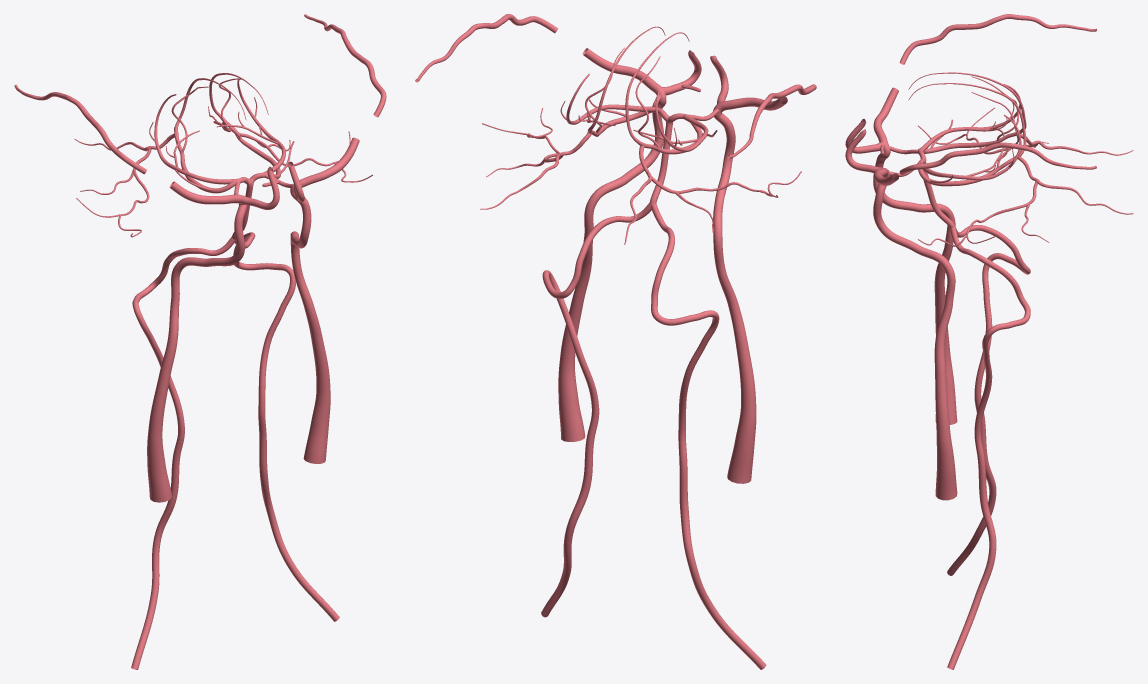
File: cerebral-arterial-balanced.glb
3 renders of one model, left to right at view 1: azimuth 30°, elevation 25°; view 2: azimuth 150°, elevation 25°; view 3: azimuth 270°, elevation 25°, orthographic. The views are drawn at different scales.
Visible parts, largest first — view 1: za.internal-carotid-artery-r, za.internal-carotid-artery-l, za.vertebral-artery-r, za.vertebral-artery-l, za.posterior-cerebral-artery-r, za.posterior-cerebral-artery-l, za.middle-cerebral-artery-m3-segment-r, za.middle-cerebral-artery-m3-segment-l, za.middle-cerebral-artery-m1-segment-l, za.middle-cerebral-artery-m1-segment-r; view 2: za.internal-carotid-artery-r, za.vertebral-artery-r, za.internal-carotid-artery-l, za.vertebral-artery-l, za.posterior-cerebral-artery-r, za.posterior-cerebral-artery-l, za.middle-cerebral-artery-m3-segment-l, za.middle-cerebral-artery-m1-segment-l, za.middle-cerebral-artery-m3-segment-r, za.middle-cerebral-artery-m1-segment-r; view 3: za.internal-carotid-artery-l, za.vertebral-artery-l, za.posterior-cerebral-artery-l, za.vertebral-artery-r, za.posterior-cerebral-artery-r, za.internal-carotid-artery-r, za.middle-cerebral-artery-m3-segment-r, za.middle-cerebral-artery-m3-segment-l, za.middle-cerebral-artery-m1-segment-r, za.anterior-cerebral-artery-l, za.anterior-cerebral-artery-r.
Part boxes in pixels (x1,y1,x2,y2): za.internal-carotid-artery-r: (147, 205, 247, 502); za.internal-carotid-artery-l: (290, 193, 330, 463); za.vertebral-artery-r: (131, 236, 235, 669); za.vertebral-artery-l: (233, 232, 339, 621); za.posterior-cerebral-artery-r: (74, 78, 252, 237); za.posterior-cerebral-artery-l: (208, 73, 372, 189); za.middle-cerebral-artery-m3-segment-r: (14, 84, 146, 174); za.middle-cerebral-artery-m3-segment-l: (304, 14, 386, 117); za.middle-cerebral-artery-m1-segment-l: (290, 137, 359, 194); za.middle-cerebral-artery-m1-segment-r: (169, 181, 246, 205); za.internal-carotid-artery-r: (713, 113, 756, 483); za.vertebral-artery-r: (651, 203, 766, 669); za.internal-carotid-artery-l: (558, 102, 666, 441); za.vertebral-artery-l: (541, 202, 651, 617); za.posterior-cerebral-artery-r: (624, 32, 801, 244); za.posterior-cerebral-artery-l: (480, 26, 672, 209); za.middle-cerebral-artery-m3-segment-l: (415, 14, 558, 82); za.middle-cerebral-artery-m1-segment-l: (582, 48, 666, 104); za.middle-cerebral-artery-m3-segment-r: (727, 84, 816, 158); za.middle-cerebral-artery-m1-segment-r: (713, 96, 787, 117); za.internal-carotid-artery-l: (873, 184, 957, 500); za.vertebral-artery-l: (947, 226, 1030, 669); za.posterior-cerebral-artery-l: (908, 83, 1133, 246); za.vertebral-artery-r: (947, 225, 1030, 575); za.posterior-cerebral-artery-r: (908, 72, 1133, 160); za.internal-carotid-artery-r: (873, 153, 957, 424); za.middle-cerebral-artery-m3-segment-r: (899, 14, 1097, 64); za.middle-cerebral-artery-m3-segment-l: (899, 142, 1096, 174); za.middle-cerebral-artery-m1-segment-r: (873, 87, 898, 155); za.anterior-cerebral-artery-l: (845, 129, 883, 173); za.anterior-cerebral-artery-r: (845, 119, 885, 153).
Size of the model in its own units: 0.1213 by 0.2181 by 0.1045.
